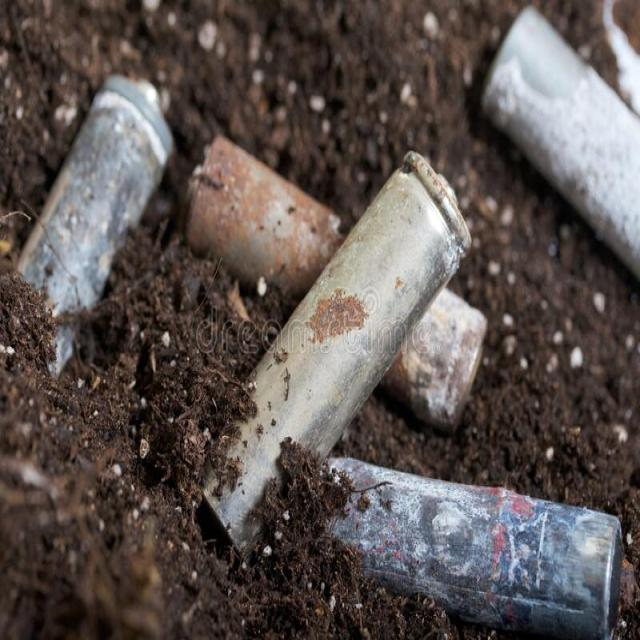Hazard: (225, 201, 467, 487), (485, 24, 640, 275), (29, 52, 174, 284), (380, 460, 603, 583)
